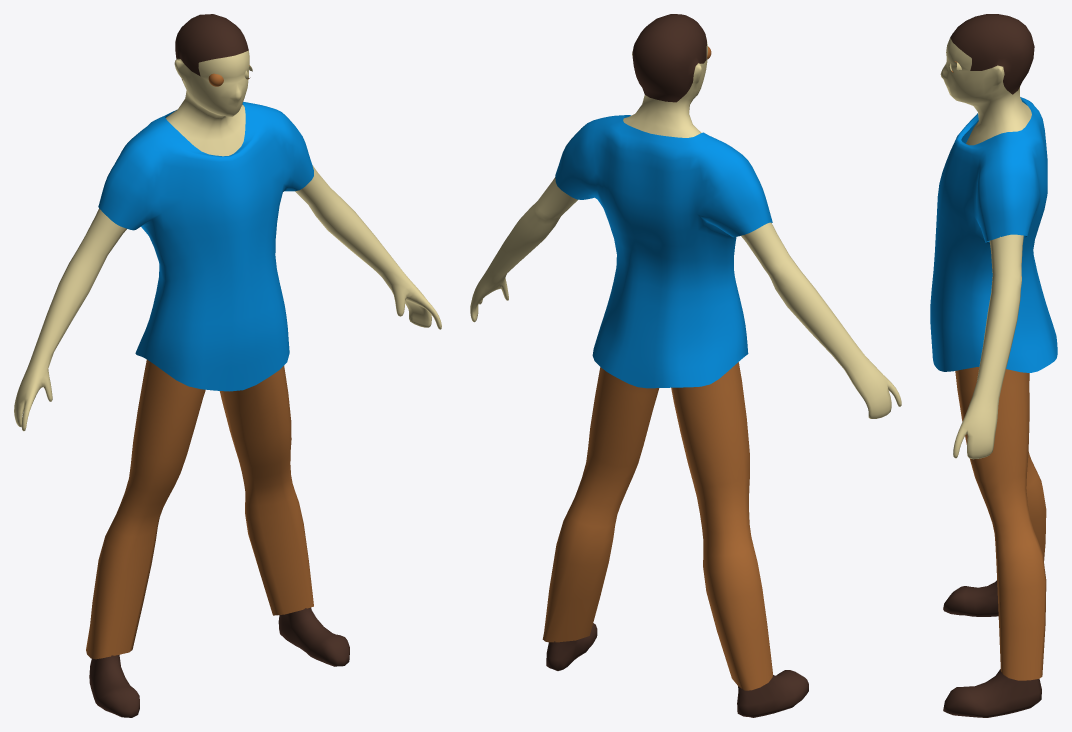
The model's file is Human2.fbx.
3 renders of one model, left to right at view 1: azimuth 30°, elevation 25°; view 2: azimuth 150°, elevation 25°; view 3: azimuth 270°, elevation 25°, orthographic. The views are drawn at different scales.
Visible parts, largest first — view 1: Human; view 2: Human; view 3: Human.
Part boxes in pixels (x1,y1,x2,y2): Human: (14,14,441,717); Human: (470,14,901,717); Human: (930,14,1057,717).
Bounding box in the file's own units: 279 × 419 × 74.71.
